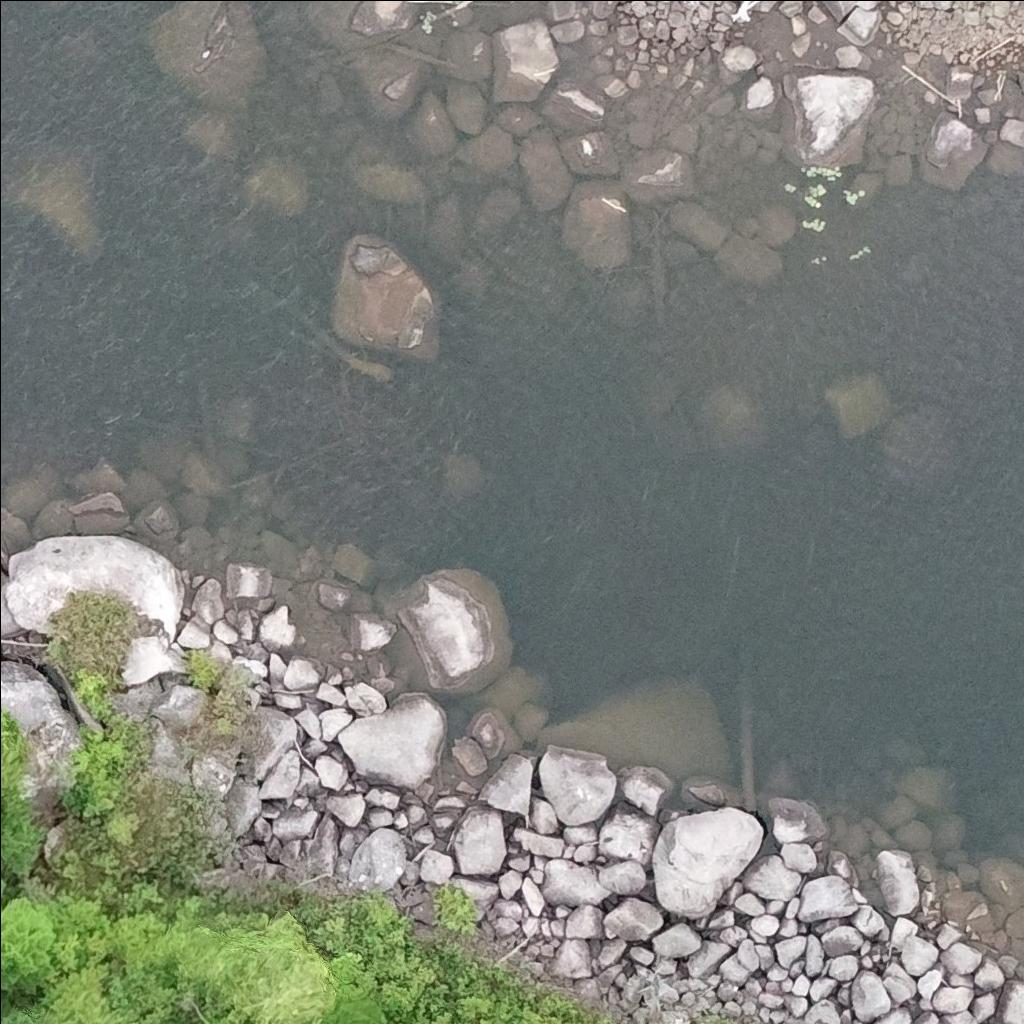crown: (220, 916, 335, 1023), (0, 897, 66, 992), (0, 704, 31, 817), (207, 1008, 249, 1023)
